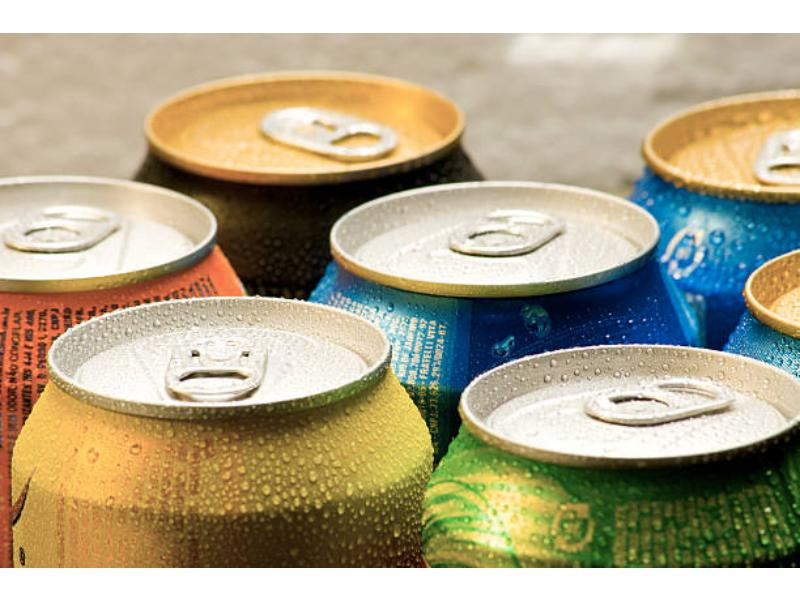can: (120, 62, 499, 201), (450, 341, 800, 482), (39, 290, 399, 423), (310, 175, 662, 301), (3, 168, 239, 296), (639, 83, 800, 218)
